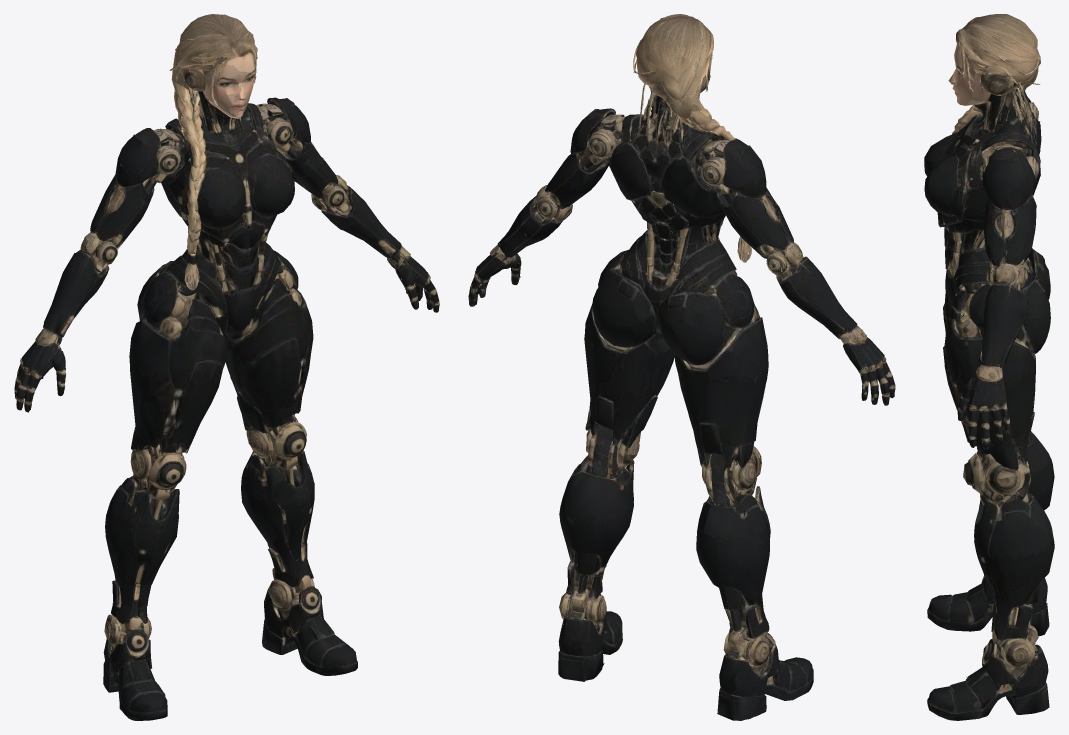
Rendered from nx-aegis.glb.
3 views of the same model, side by side, from view 1: azimuth 30°, elevation 25°; view 2: azimuth 150°, elevation 25°; view 3: azimuth 270°, elevation 25° (orthographic).
Visible parts, largest first — view 1: Mesh_0; view 2: Mesh_0; view 3: Mesh_0.
Part boxes in pixels (x1=…): Mesh_0: x1=14, y1=14, x2=439, y2=720; Mesh_0: x1=468, y1=14, x2=895, y2=720; Mesh_0: x1=924, y1=14, x2=1054, y2=720.
Size of the model in its own units: 1.26 by 1.9 by 0.3464.
1 material, 1 textured.
